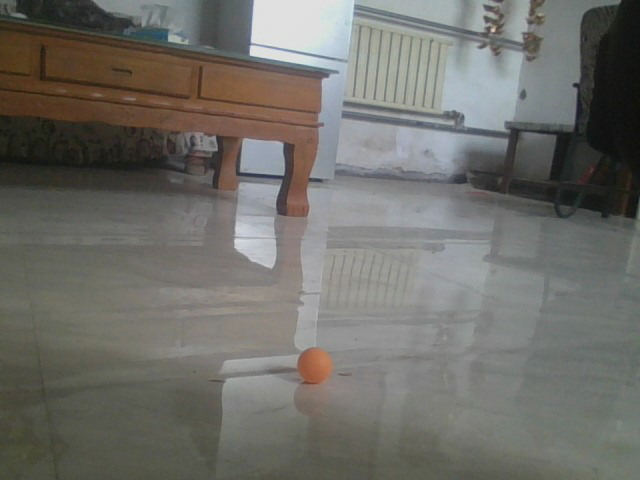ball: (300, 348, 336, 384)
